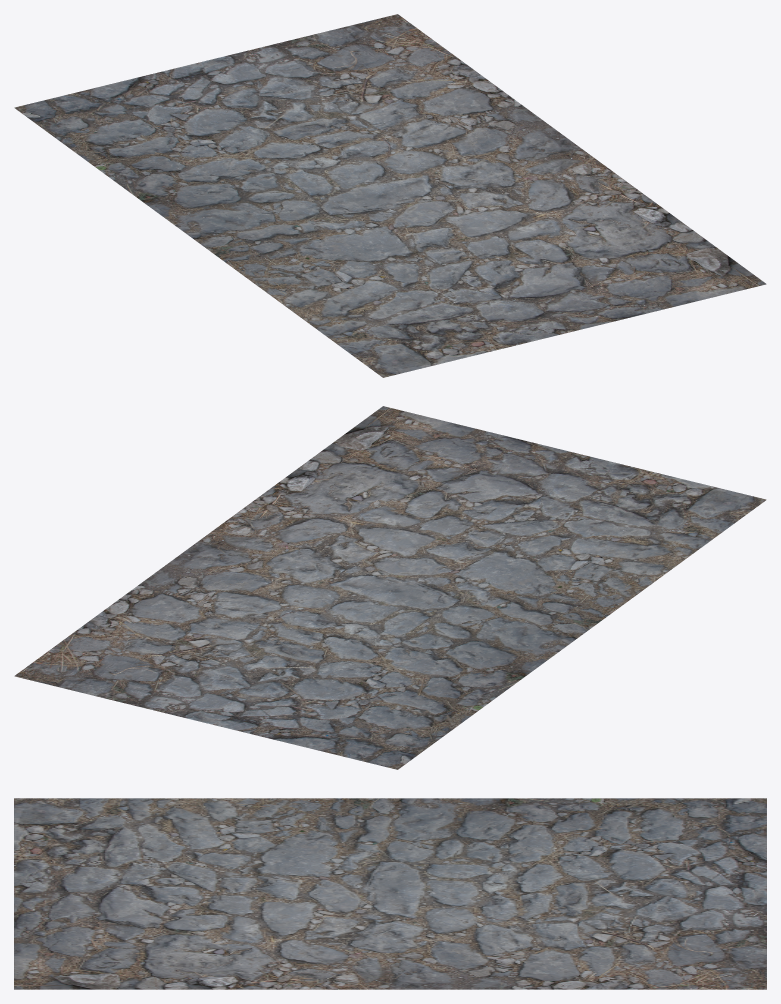
File: stone_path_plane.glb
3 renders of one model, top to bottom at view 1: azimuth 30°, elevation 25°; view 2: azimuth 150°, elevation 25°; view 3: azimuth 270°, elevation 25°, orthographic.
Parts seen in each view (by area): view 1: Plane02; view 2: Plane02; view 3: Plane02.
Boxes of the visible parts, x1,y1,x2,y2 form: Plane02: (14,14,766,377); Plane02: (14,406,766,769); Plane02: (14,798,766,989).
Size of the model in its own units: 1.8 by 1.33e-15 by 3.
Materials: 1 (1 with a texture image).
